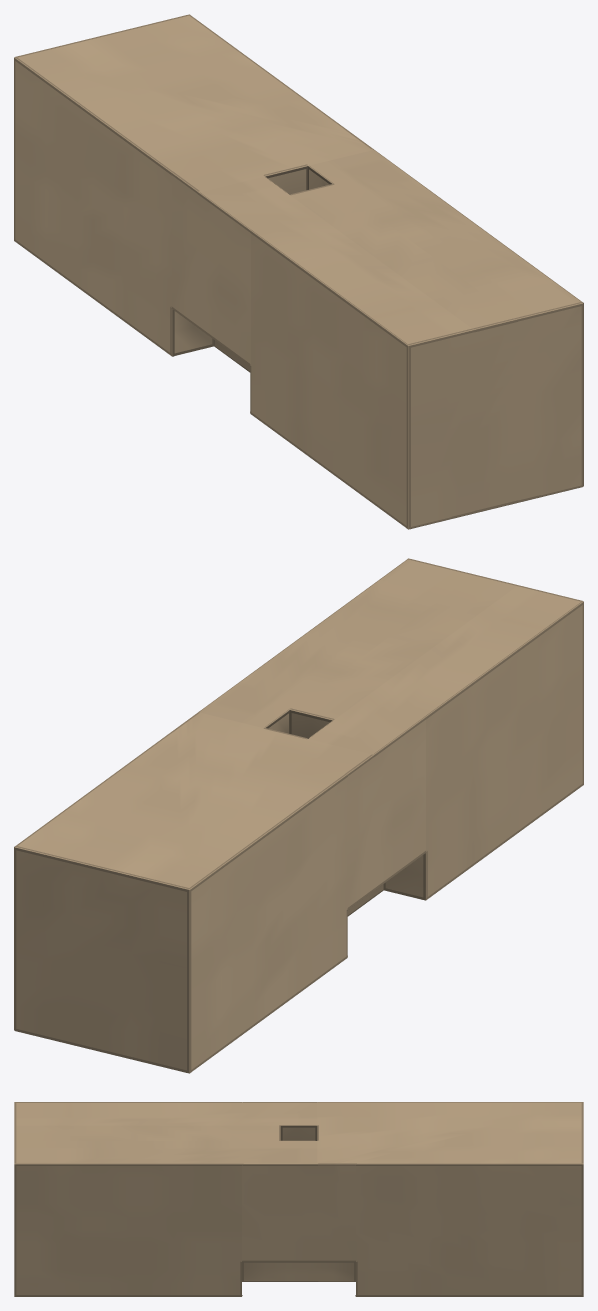
File: beam-z.glb
3 views of the same model, one above another, from view 1: azimuth 30°, elevation 25°; view 2: azimuth 150°, elevation 25°; view 3: azimuth 270°, elevation 25° (orthographic). The views are drawn at different scales.
Parts seen in each view (by area): view 1: beam-z; view 2: beam-z; view 3: beam-z.
Boxes of the visible parts, x1=… form: beam-z: x1=14, y1=14, x2=583, y2=529; beam-z: x1=14, y1=558, x2=583, y2=1073; beam-z: x1=14, y1=1102, x2=583, y2=1296.
Size of the model in its own units: 0.1208 by 0.1208 by 0.4688.
